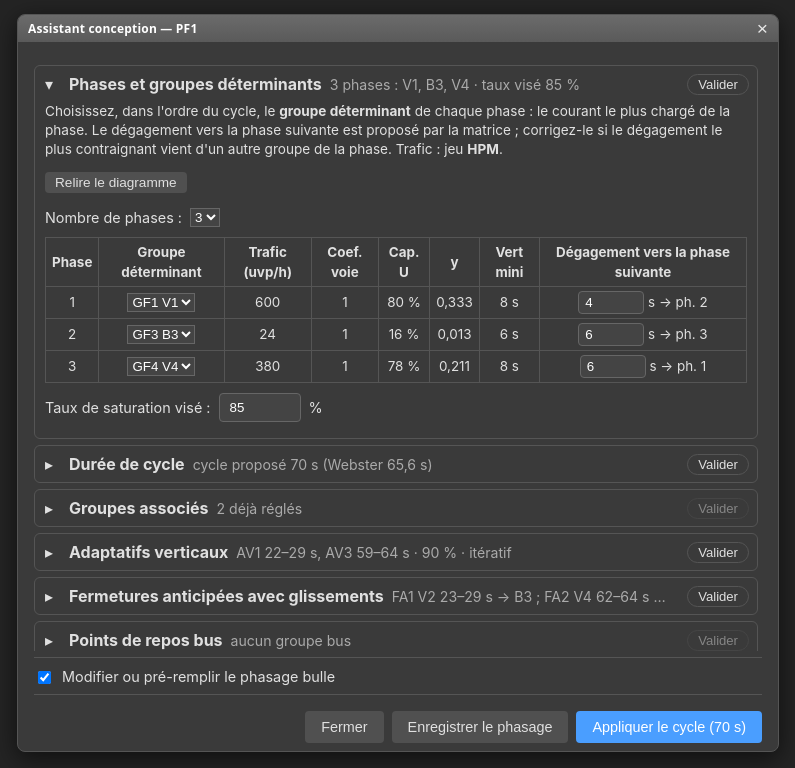
Test case: suggestion de durée du cycle › à l'ouverture, seul le tableau des groupes déterminants est déployé ; les autres chapitres montrent leur résumé
Expected: the dropdown labelled "Nombre de phases" shows "3", x1=190 y1=208 x2=220 y2=227
Expected: the button "Phases et groupes déterminants" shows "3 phases : V1, B3, V4 · taux visé 85 %", x1=35 y1=66 x2=679 y2=102
Click the button "▸ Durée de cycle cycle proposé 70 s (Webster 65,6 s)". click: (357, 464)
box: x1=35 y1=446 x2=679 y2=482
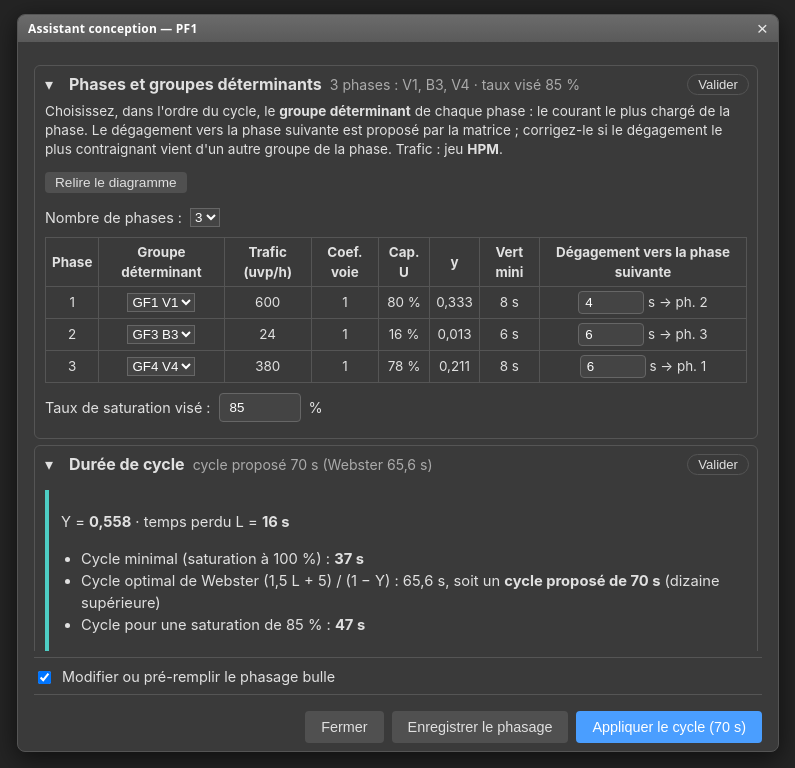
Expected: the text "Y = 0,558 · temps perdu L = 16 s" is shown, x1=61 y1=513 x2=290 y2=531
Click the button "▾ Durée de cycle cycle proposé 70 s (Webster 65,6 s)". click: (357, 464)
box: x1=35 y1=446 x2=679 y2=482
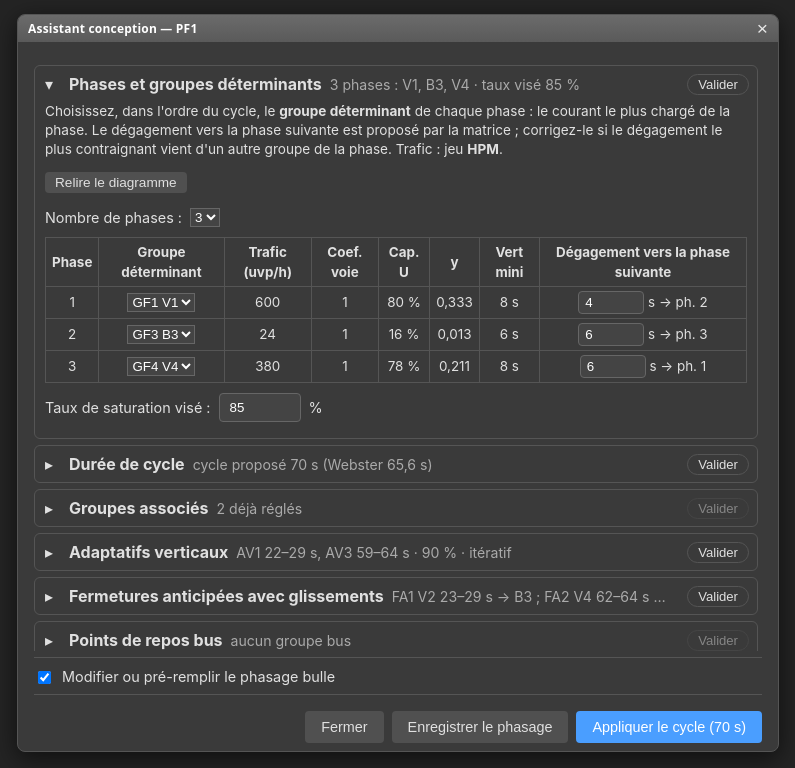
Expected: the text "temps perdu L =" is gone
Click the button "Phases et groupes déterminants". click: (357, 84)
box: x1=35 y1=66 x2=679 y2=102
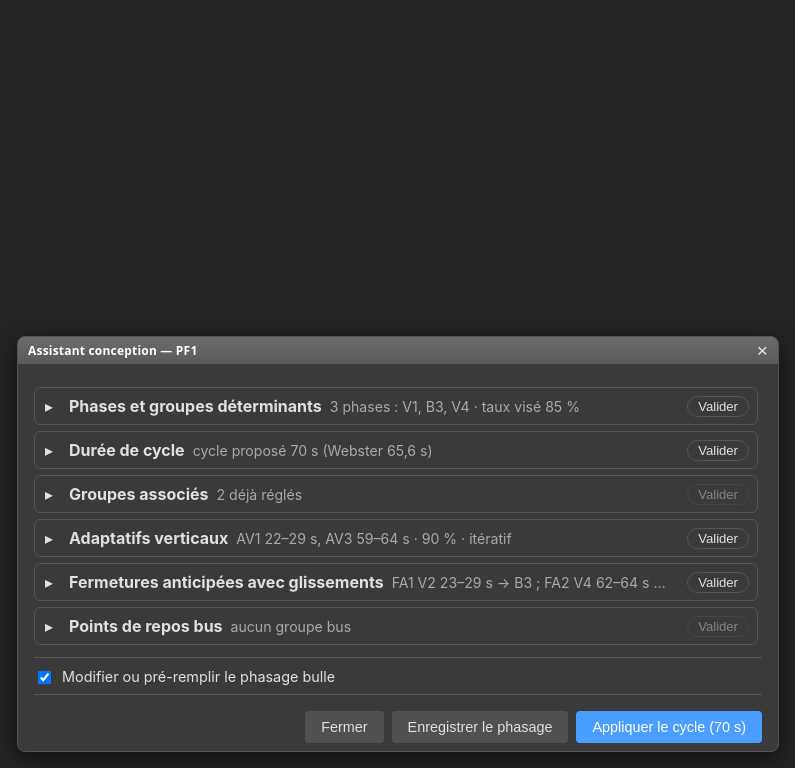
Expected: the button "Appliquer le cycle (70 s)" is enabled, x1=576 y1=711 x2=762 y2=743
Expected: the label labelled "Nombre de phases" is gone
